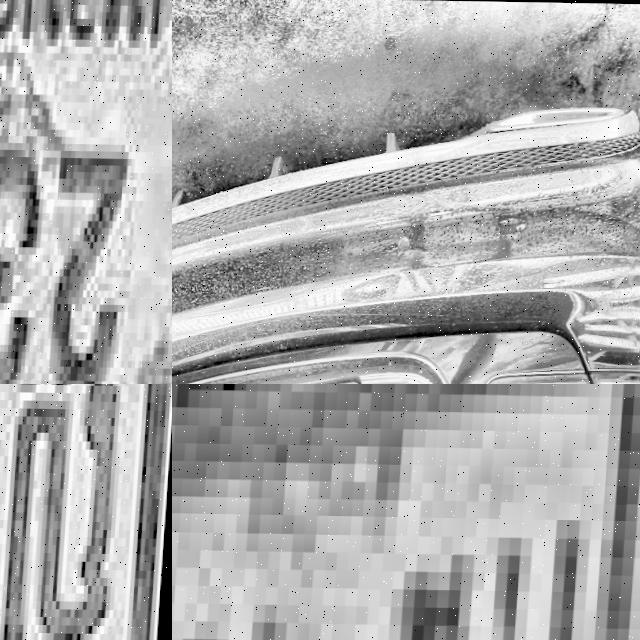license-plate: (172, 384, 640, 640), (0, 0, 172, 384), (0, 384, 172, 640)
